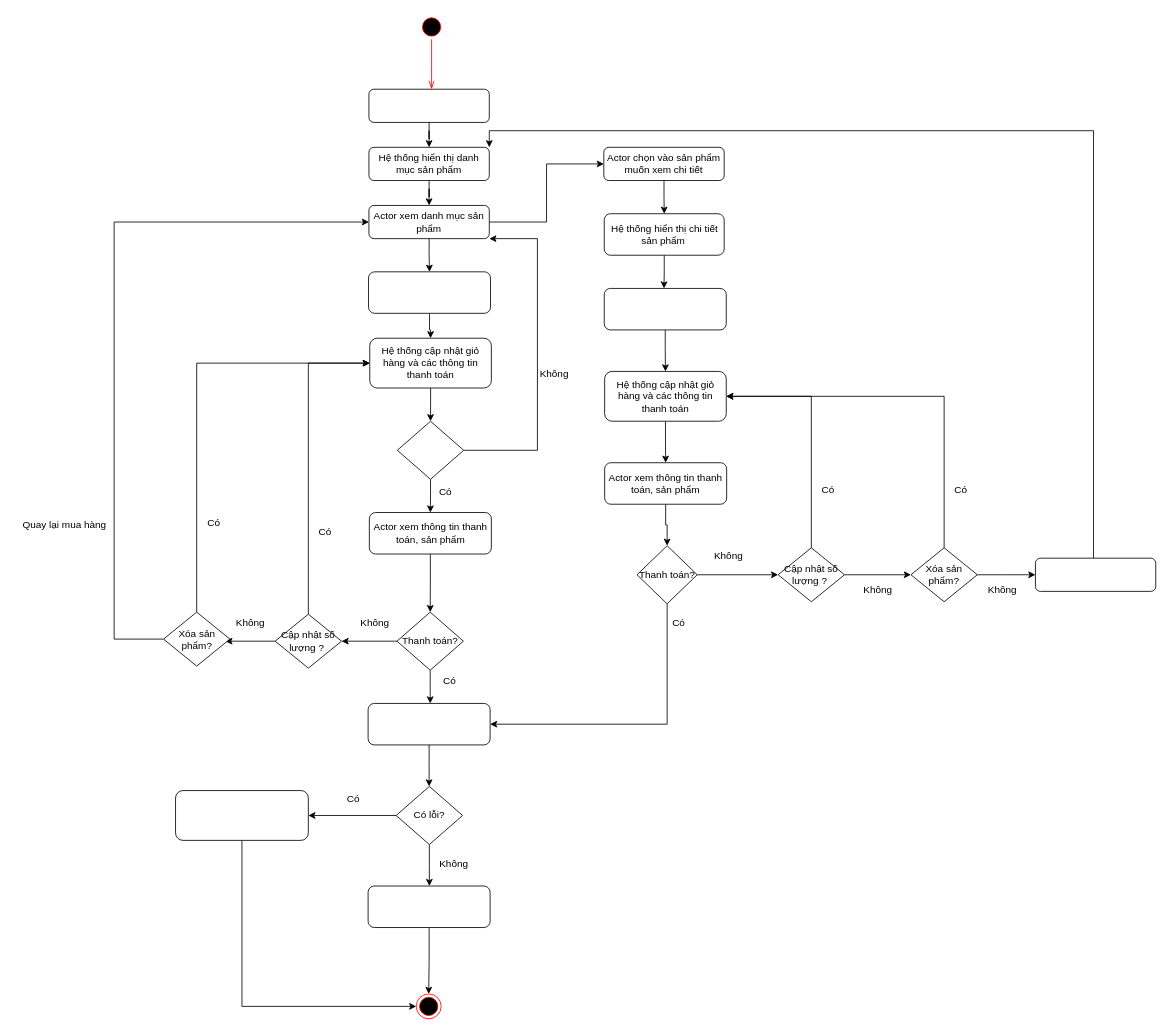
Image size: 1170x1033. Some labels were removed from this diagram. The centre of each missing label's shape, as x and y in pixels:
"Actor chọn sản phẩm và bấm mua hàng" goes at point (429, 292).
"Actor chọn số lượng và bấm mua hàng" goes at point (664, 309).
"Actor đăng nhập vào hệ thống" goes at point (428, 105).
"Hệ thống gửi email giỏ hàng đã được xử lý" goes at point (428, 906).
"Hệ thống gửi email thông báo lỗi trong quá trình thanh toán" goes at point (241, 815).
"Hệ thống kiểm tra thông tin sản phẩm" goes at point (428, 724).
"Quay về danh mục sản phẩm" goes at point (1095, 574).
"Xem giỏ hàng ?" goes at point (430, 449).
